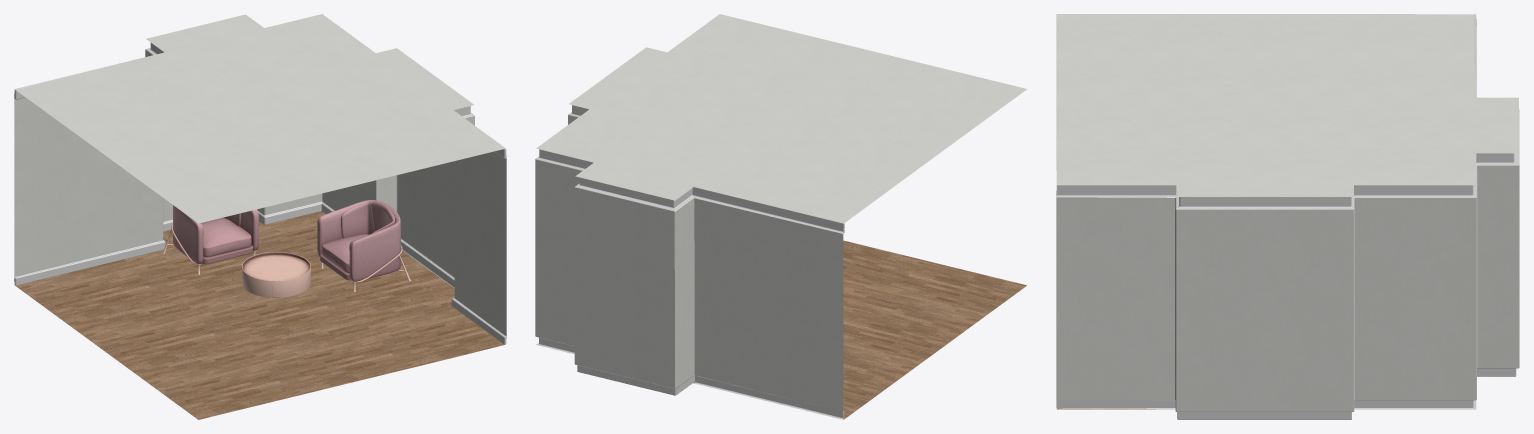
File: home01.glb
3 views of the same model, side by side, from view 1: azimuth 30°, elevation 25°; view 2: azimuth 150°, elevation 25°; view 3: azimuth 270°, elevation 25° (orthographic). The views are drawn at different scales.
Parts seen in each view (by area): view 1: Cube, Object_9, Object_6, Object_12; view 2: Cube; view 3: Cube.
Boxes of the visible parts, <box> form: Cube: <box>14,14,506,419</box>; Object_9: <box>317,200,410,292</box>; Object_6: <box>162,205,258,274</box>; Object_12: <box>242,252,310,297</box>; Cube: <box>535,14,1026,419</box>; Cube: <box>1056,14,1519,419</box>.
Bounding box in the file's own units: 2.63 × 1.5 × 2.81.
5 materials, 4 textured.
